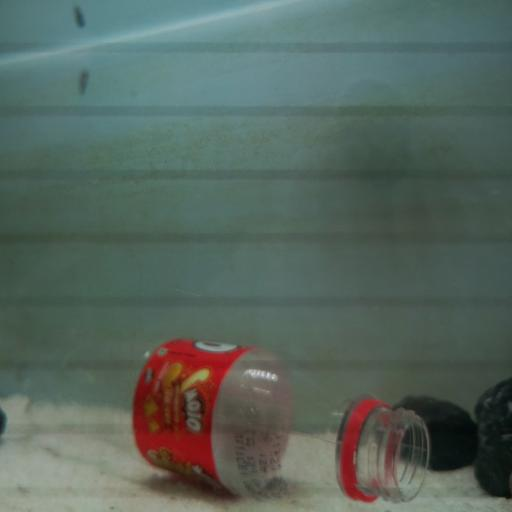plastic_bottle: (26, 331, 430, 506)
